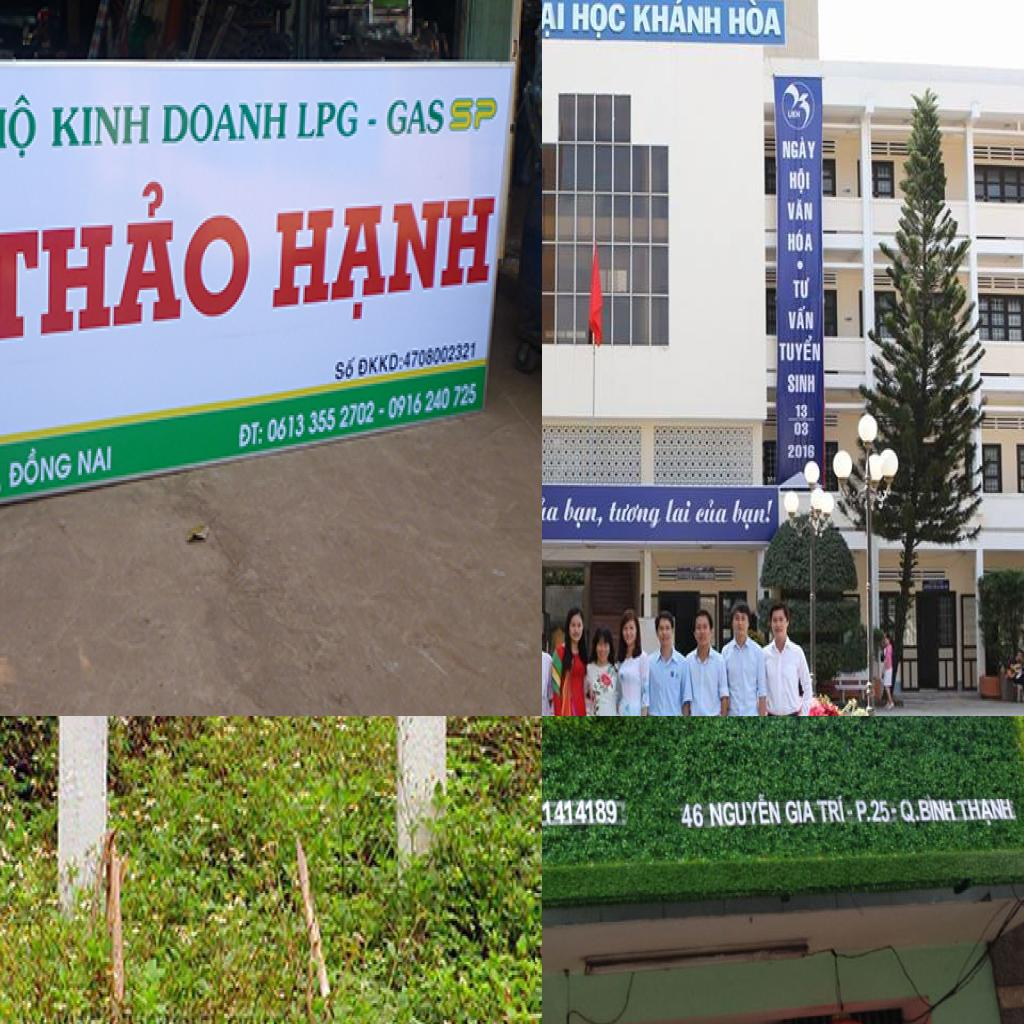text: (0, 172, 256, 350), (270, 194, 500, 333), (162, 100, 291, 148), (266, 398, 378, 446), (50, 102, 153, 150), (385, 381, 480, 425), (631, 0, 722, 38), (7, 442, 73, 494), (0, 88, 41, 165), (296, 98, 362, 143), (385, 95, 448, 141), (704, 796, 785, 829), (542, 797, 621, 830), (571, 0, 628, 40), (727, 0, 784, 40), (448, 95, 501, 134), (606, 498, 664, 533), (959, 794, 1015, 826), (561, 496, 608, 533), (356, 348, 404, 381), (77, 442, 114, 482), (914, 794, 956, 828), (779, 332, 822, 364), (816, 792, 848, 830), (693, 498, 733, 526), (237, 418, 266, 454), (782, 134, 819, 162), (853, 796, 891, 823), (782, 796, 816, 826), (542, 0, 566, 40), (664, 496, 694, 528), (332, 350, 358, 384), (786, 304, 816, 333), (786, 229, 815, 255), (679, 802, 705, 831), (787, 197, 815, 223), (789, 166, 812, 196), (787, 373, 817, 395), (898, 799, 920, 828), (542, 494, 562, 525), (791, 275, 813, 301), (787, 443, 817, 461), (792, 421, 810, 439), (794, 403, 810, 421)
